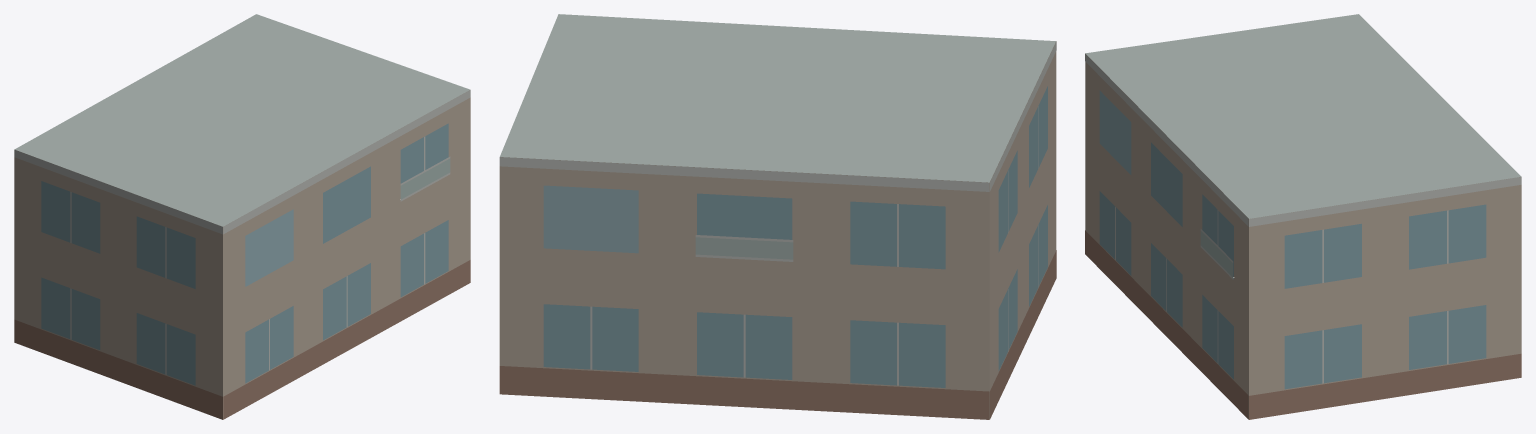
File: survey-upis-32833393.glb
The picture shows the model from 3 angles, left to right: view 1: azimuth 30°, elevation 25°; view 2: azimuth 150°, elevation 25°; view 3: azimuth 270°, elevation 25°; orthographic projection. The views are drawn at different scales.
Visible parts, largest first — view 1: survey-upis-32833393.tmp; view 2: survey-upis-32833393.tmp; view 3: survey-upis-32833393.tmp.
Part boxes in pixels (x1,y1,x2,y2): survey-upis-32833393.tmp: [14, 14, 470, 419]; survey-upis-32833393.tmp: [499, 14, 1056, 419]; survey-upis-32833393.tmp: [1085, 14, 1521, 419].
Size of the model in its own units: 13.35 by 6.1 by 12.02.
